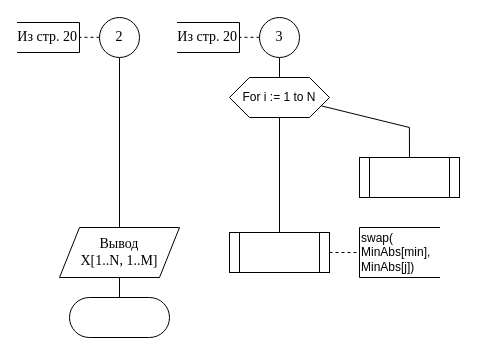
This 477x355 diagram has some shape labels left out. The shapes that lost their labels are listed below. From the top down, each one's box as (x1, y1, x2, y2) in pixels, then its label:
(358, 156, 460, 198): swap( X[i,min], X[i, j])
(68, 296, 170, 338): Выход
